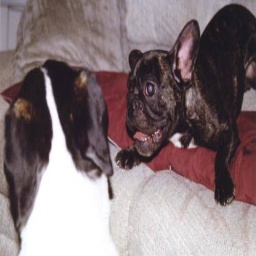dog: (125, 3, 255, 173)
